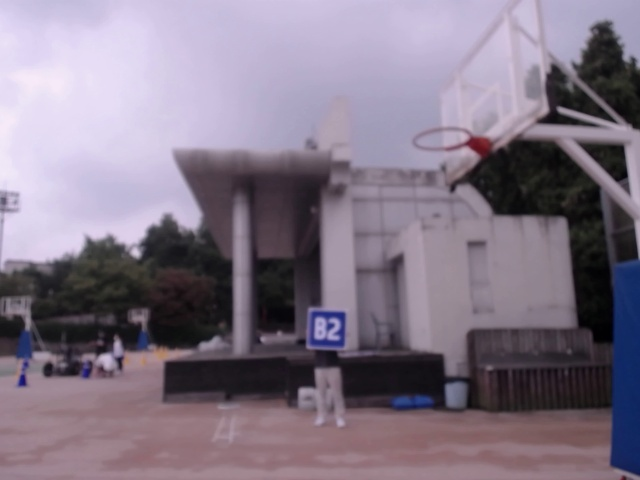delivery_b2: (306, 308, 346, 348)
